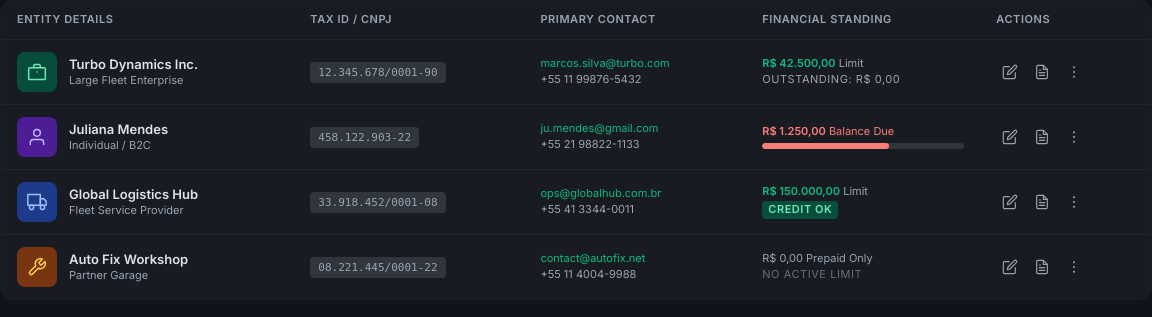
Test case: EntityTable — 3.4 Coluna Actions › clicar em um item do dropdown fecha o menu
Click the button named "mais opções" in the row of "Turbo Dynamics Inc.".
click(1074, 72)  # box [1060, 58, 1088, 86]
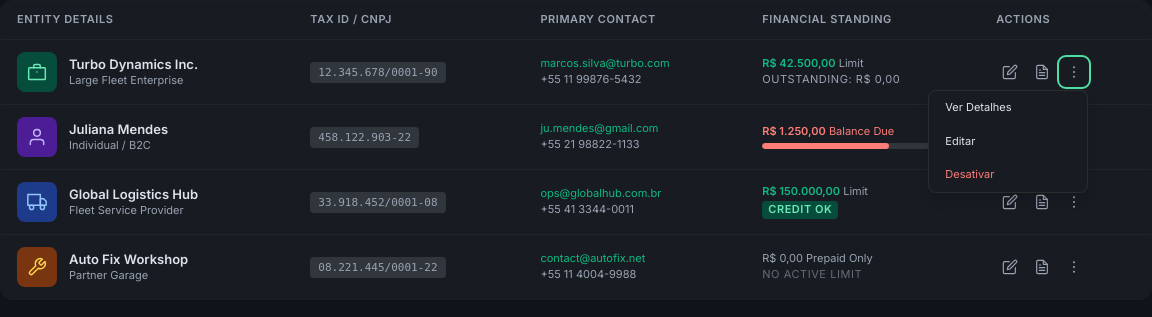
Click the menu item "Ver Detalhes".
click(1008, 108)  # box [929, 91, 1087, 125]
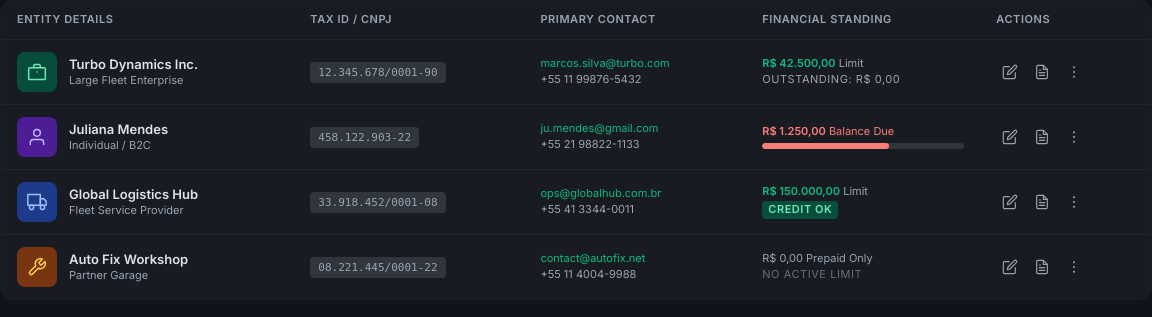
Expected: the menu is gone
